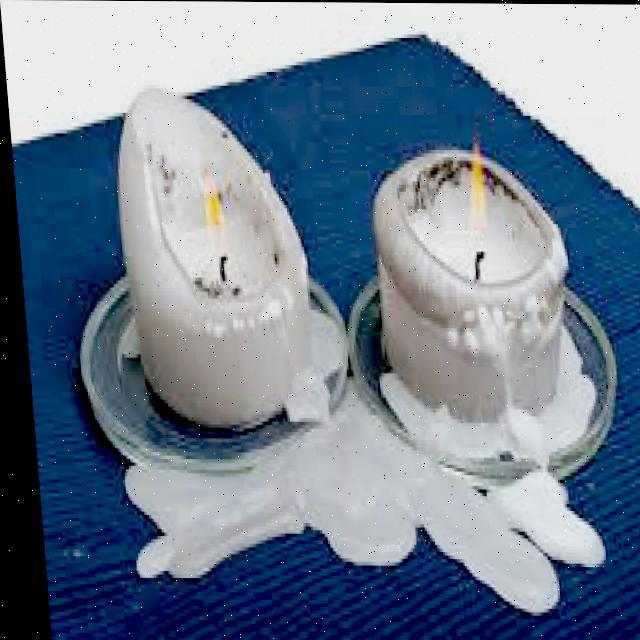Fire: (451, 136, 496, 234), (192, 165, 235, 260)
